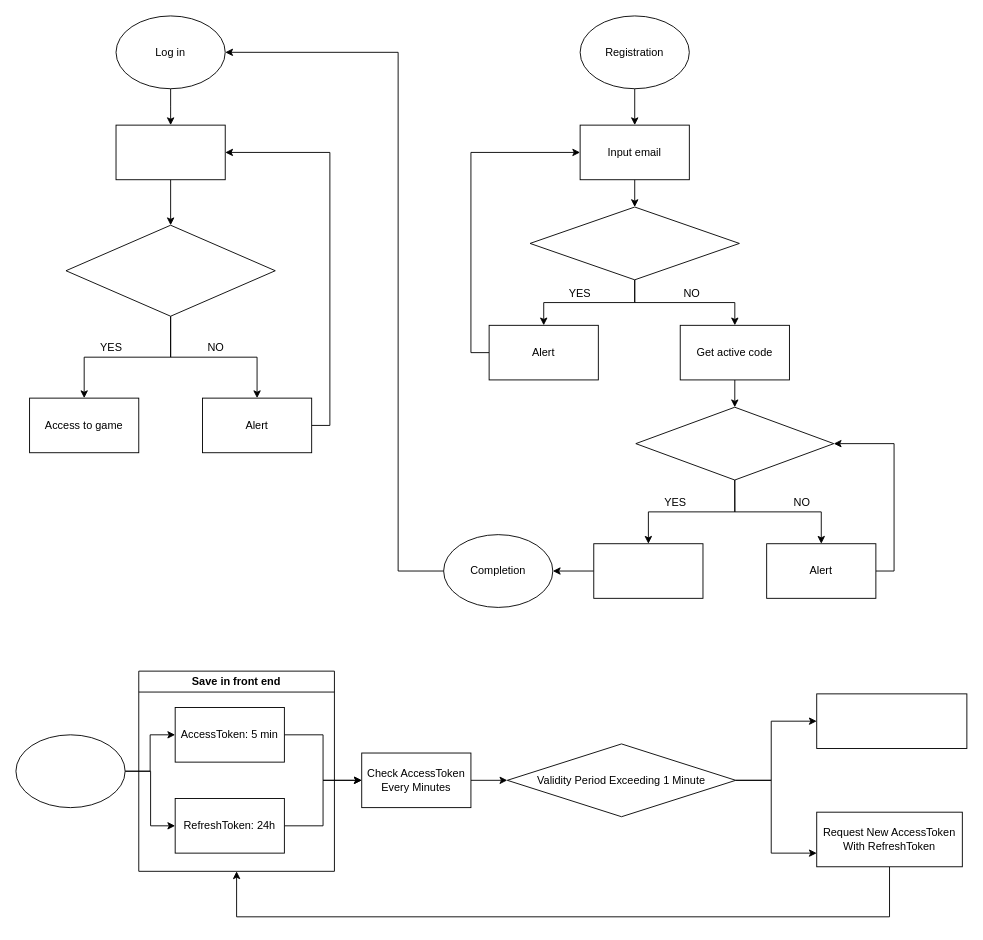
The diagram is 983 pixels wide and 940 high, and some of its shapes have lost their labels. Here are the shapes that lost their labels. From the top down, the centre of each, then its label:
point 170,152: Input email and password
point 634,243: Account exists?
point 170,270: Account exists? and Password is right?
point 734,443: Active code input is matched
point 648,570: Input user information
point 891,720: Send Request With AccessToken
point 70,771: Login
